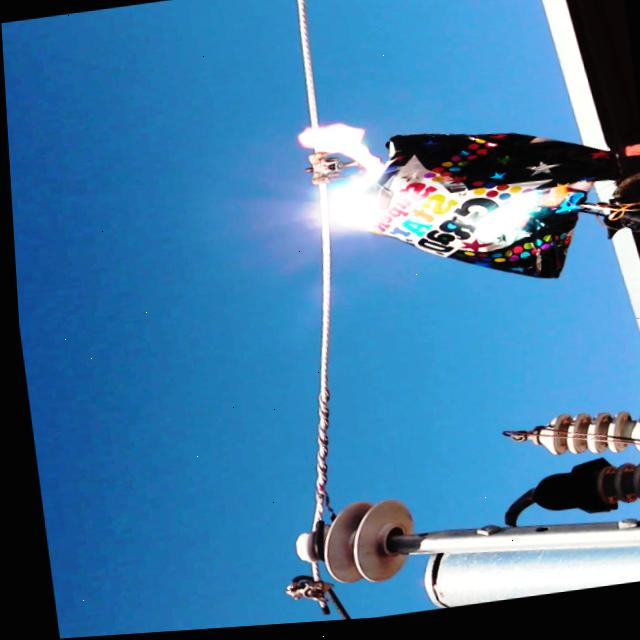obstruction: (296, 127, 640, 284)
poles: (289, 465, 640, 613), (492, 418, 640, 485)
wires: (305, 185, 327, 532), (296, 0, 316, 132)
